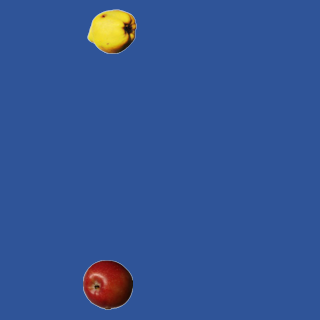Apple Braeburn: (82, 259, 132, 309)
Quince: (86, 6, 136, 56)
